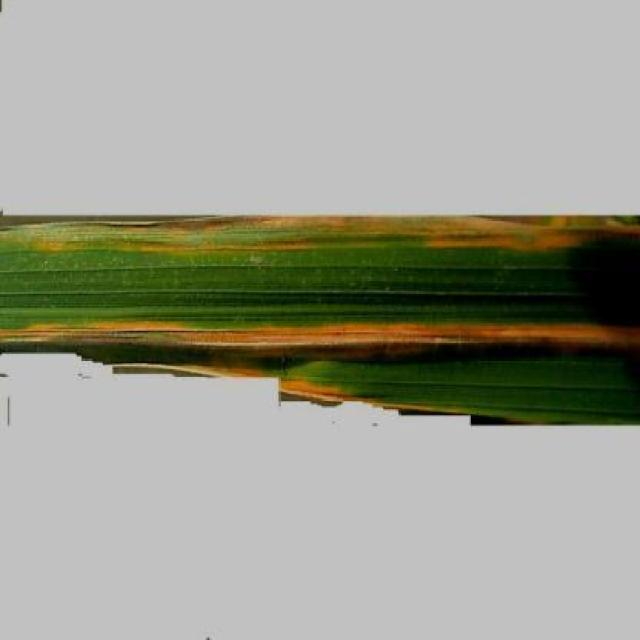Brown_Spot: (12, 301, 637, 401), (11, 181, 629, 276)
